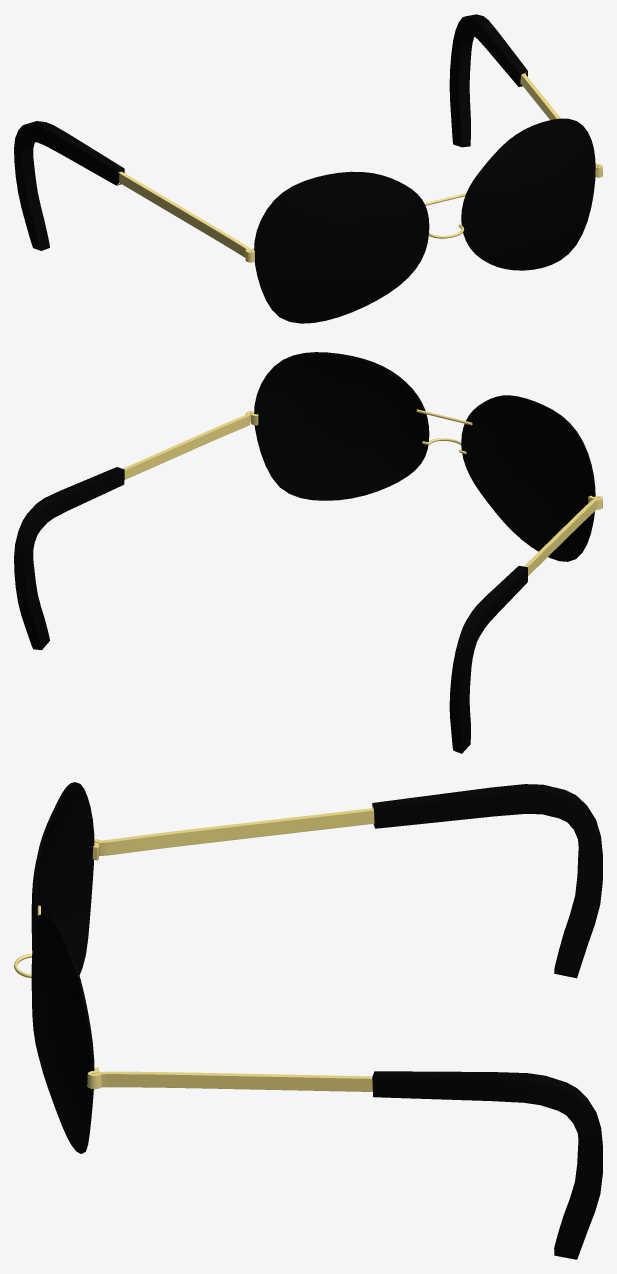
Rendered from yangjing.fbx.
3 renders of one model, top to bottom at view 1: azimuth 30°, elevation 25°; view 2: azimuth 150°, elevation 25°; view 3: azimuth 270°, elevation 25°, orthographic. The views are drawn at different scales.
Parts seen in each view (by area): view 1: yangjing_polySurface1; view 2: yangjing_polySurface1; view 3: yangjing_polySurface1.
Boxes of the visible parts, x1,y1,x2,y2 form: yangjing_polySurface1: (14, 14, 602, 323); yangjing_polySurface1: (14, 352, 602, 753); yangjing_polySurface1: (14, 782, 602, 1259).
Size of the model in its own units: 67.7 by 26.57 by 56.06.
